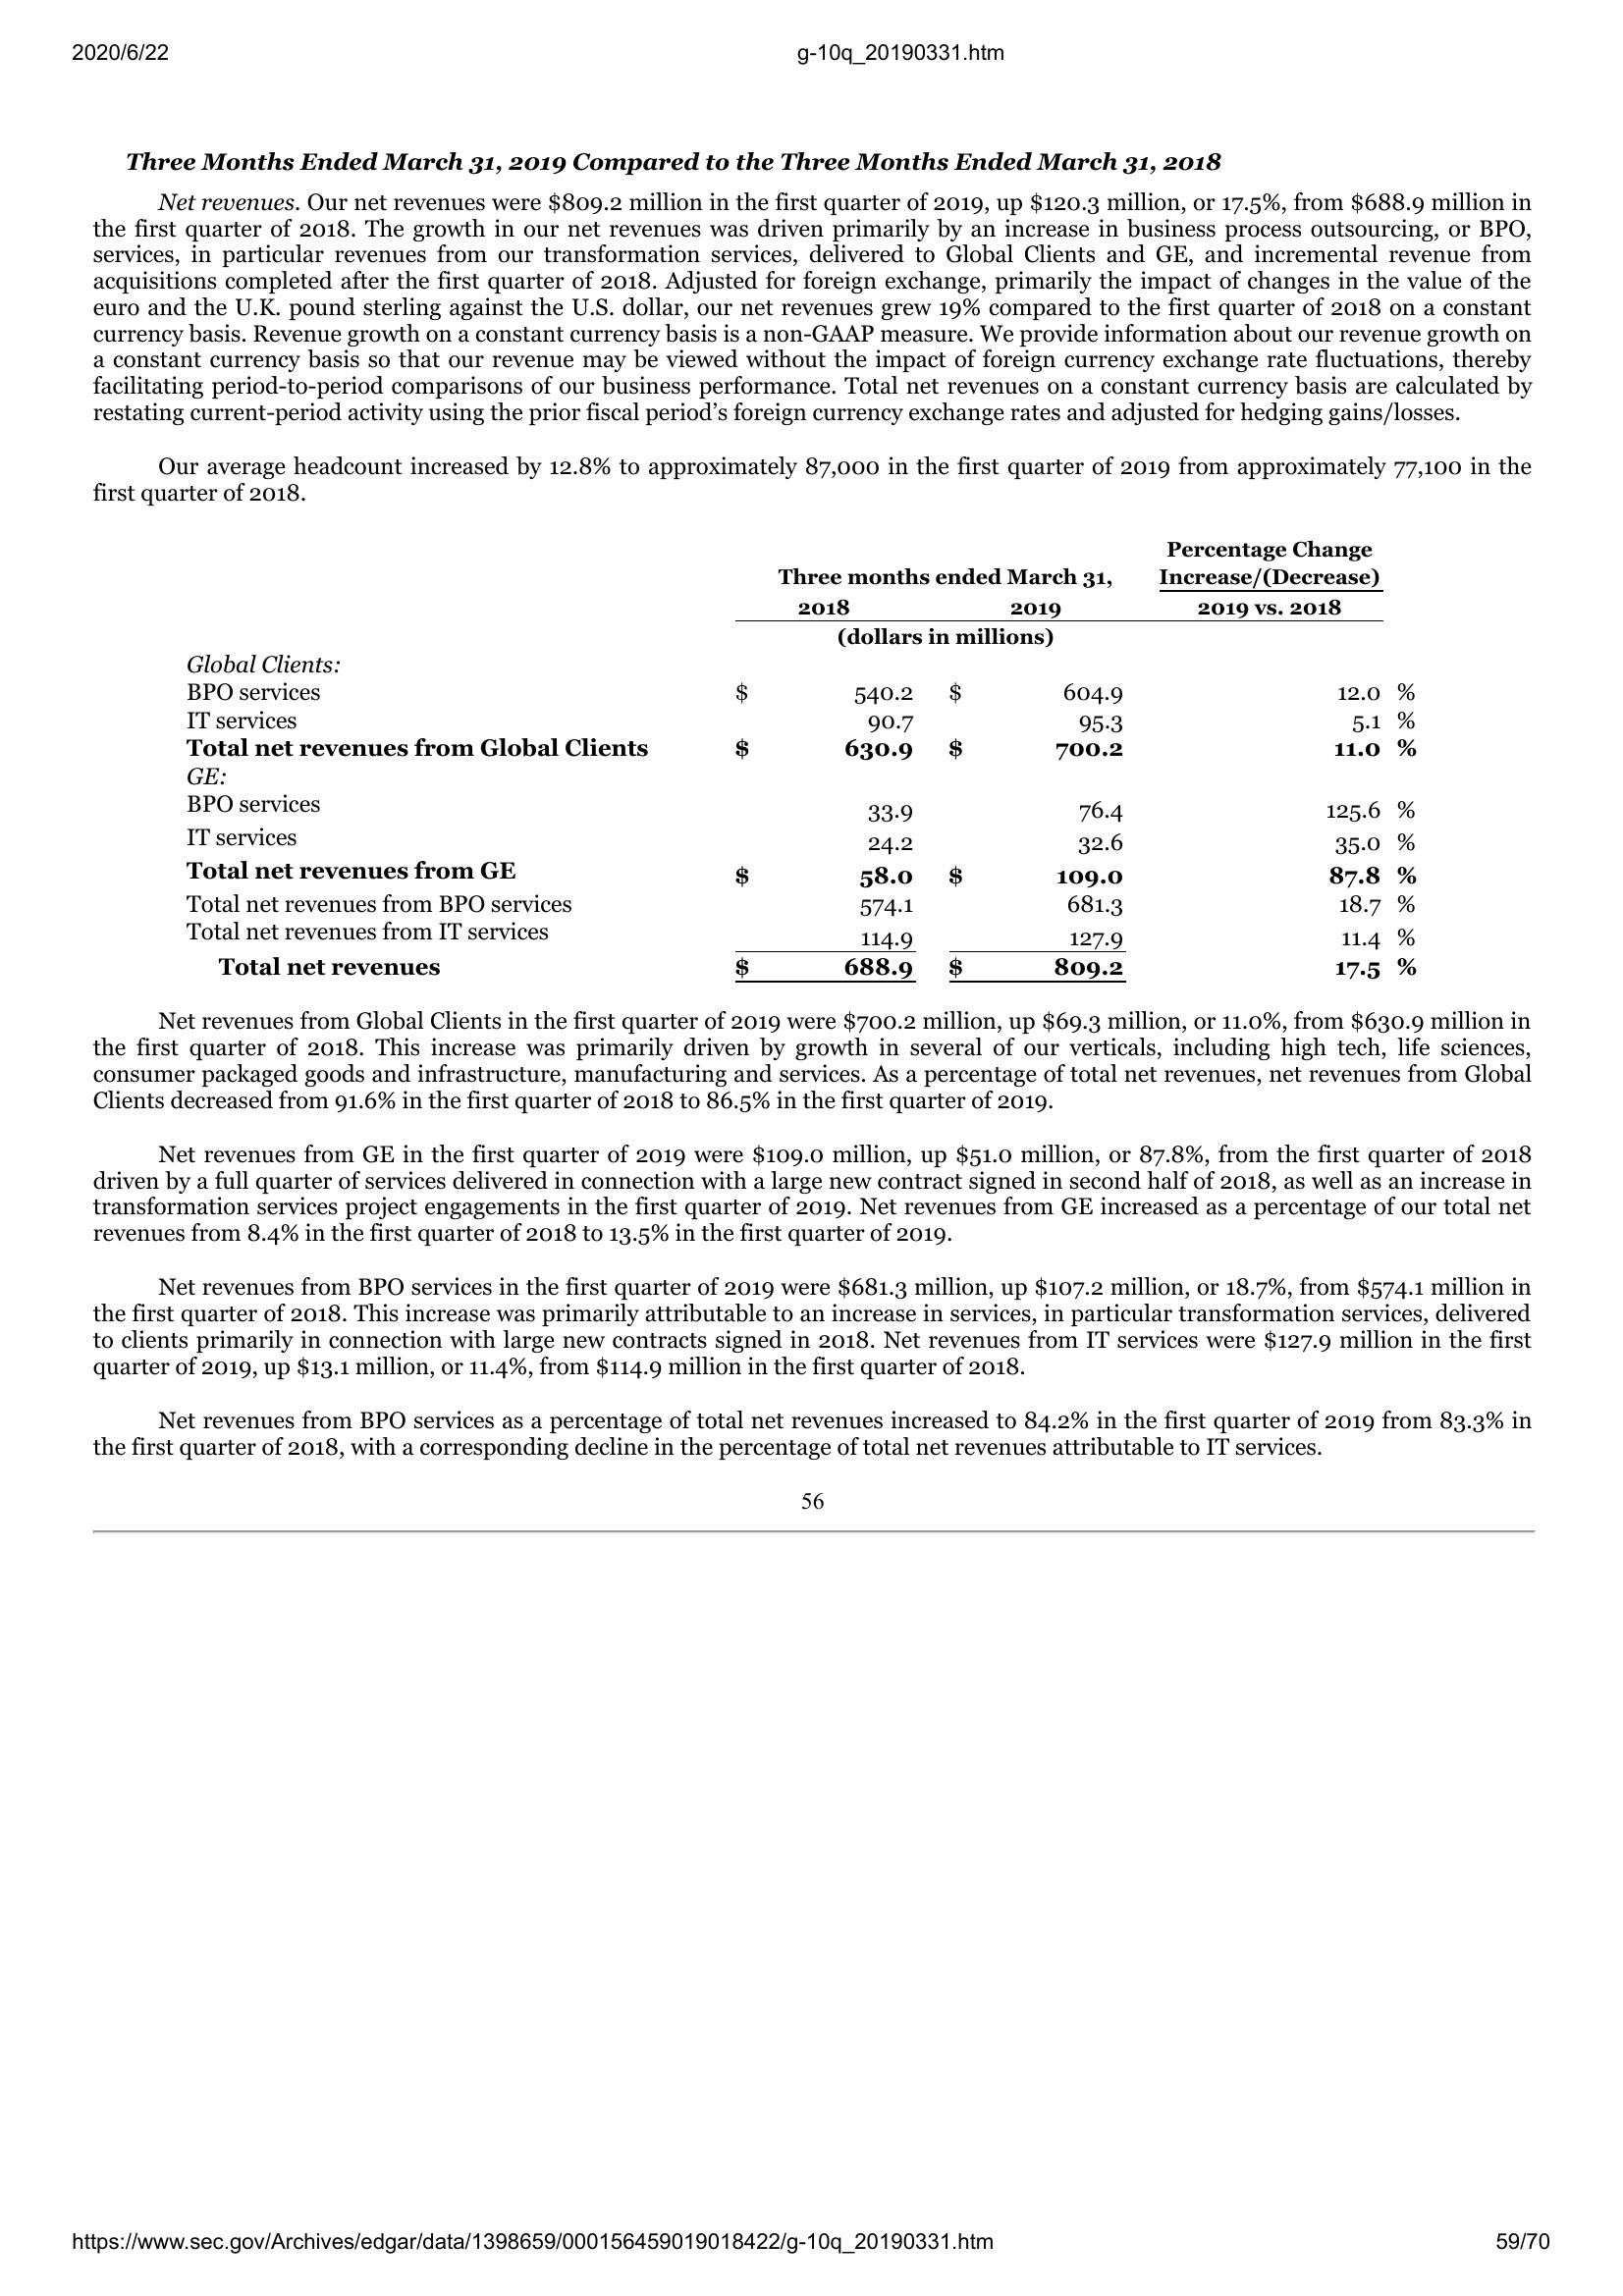table: (181, 535, 1426, 988)
